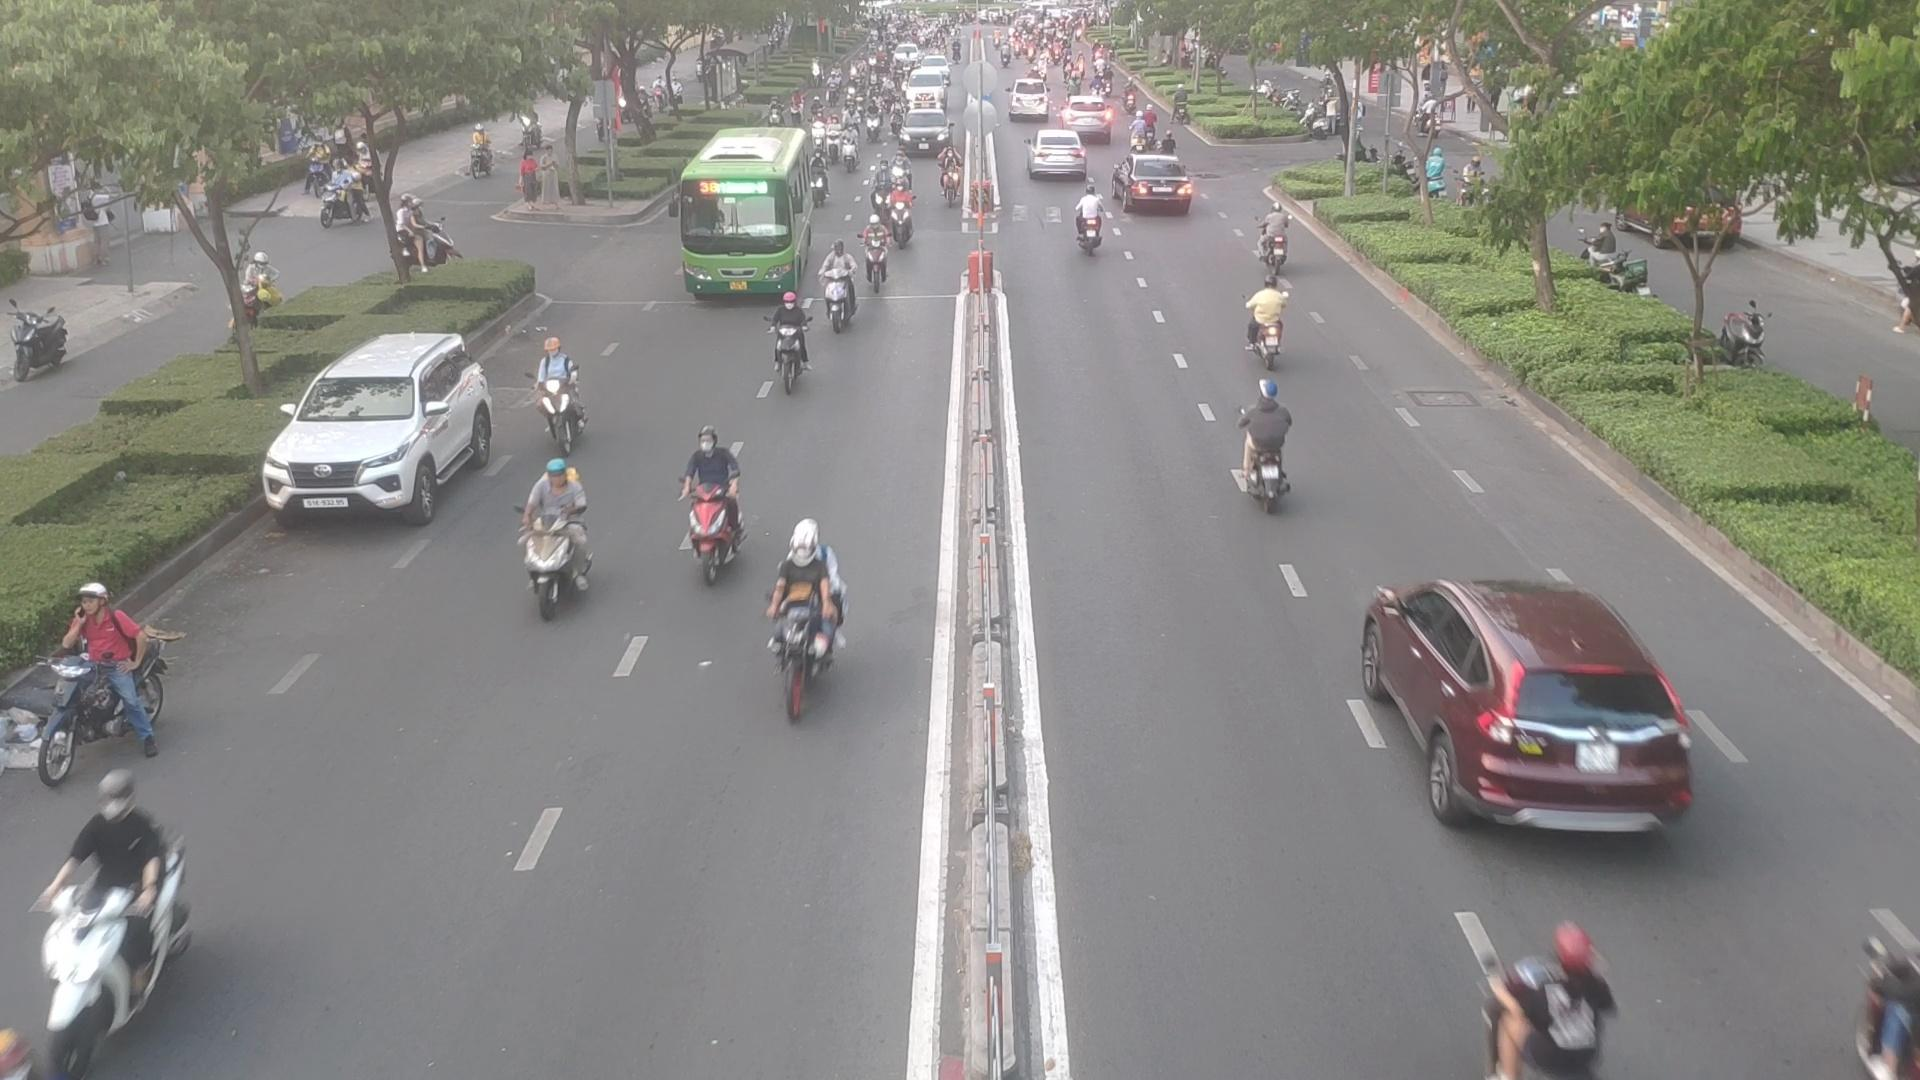bus: (666, 132, 814, 302)
car: (1383, 579, 1717, 835), (266, 332, 509, 527), (1110, 153, 1195, 214), (1027, 133, 1091, 181)
motorbike: (26, 800, 194, 1058), (4, 589, 171, 775), (1470, 915, 1623, 1075), (756, 545, 858, 720), (670, 431, 745, 587), (522, 458, 604, 597), (1232, 385, 1305, 509), (764, 294, 829, 392), (541, 330, 593, 436), (814, 252, 872, 331), (1246, 284, 1291, 367), (1069, 189, 1114, 256), (1255, 215, 1299, 273), (856, 219, 891, 273), (878, 193, 913, 248)
